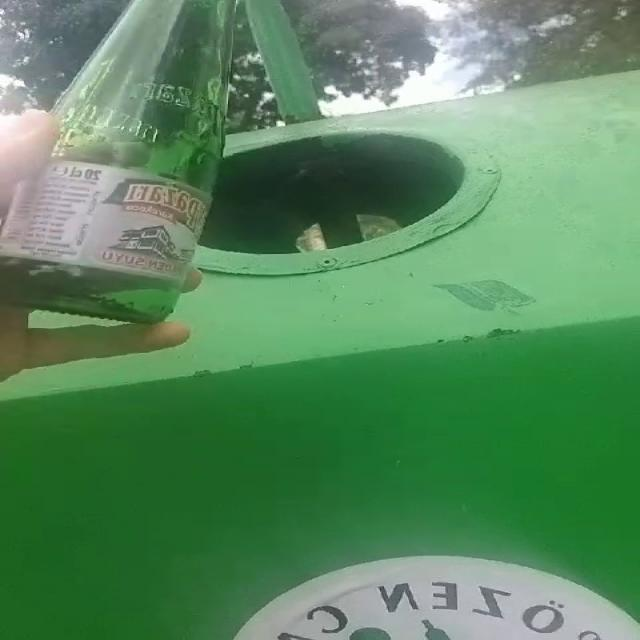glass: (1, 0, 233, 323)
